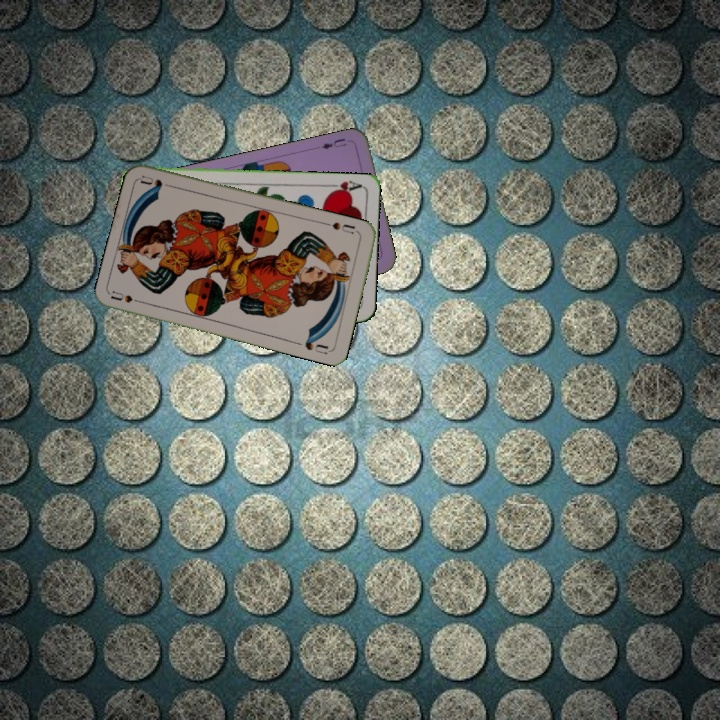EU: (318, 134, 349, 152)
HA: (323, 176, 364, 196)
SU: (108, 287, 149, 307), (328, 218, 358, 236)
